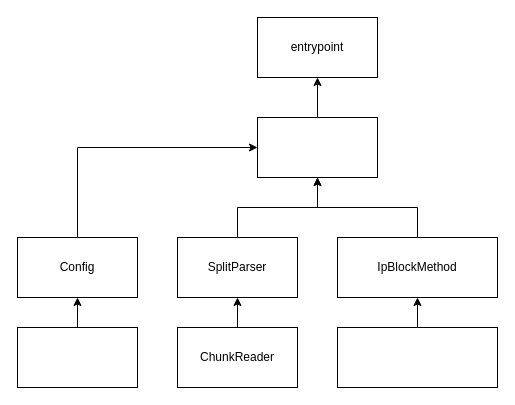
The diagram is 515 pixels wide and 405 high, and some of its shapes have lost their labels. The centre of each missing label's shape, as x and y in pixels:
"BanMethod" belongs at (x=417, y=357).
"Model" belongs at (x=317, y=147).
"Singleton" belongs at (x=77, y=357).
